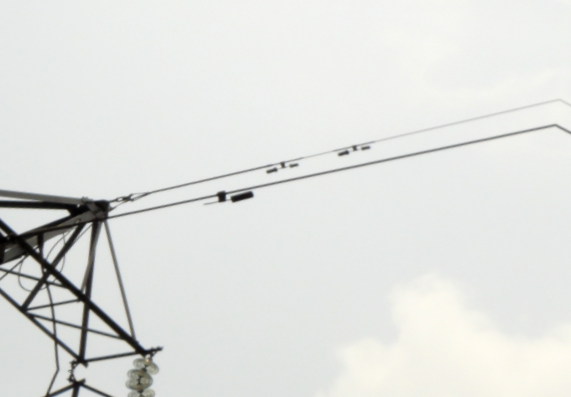damper: (336, 142, 373, 157), (264, 160, 300, 175)
damper_defect: (200, 188, 255, 209)
